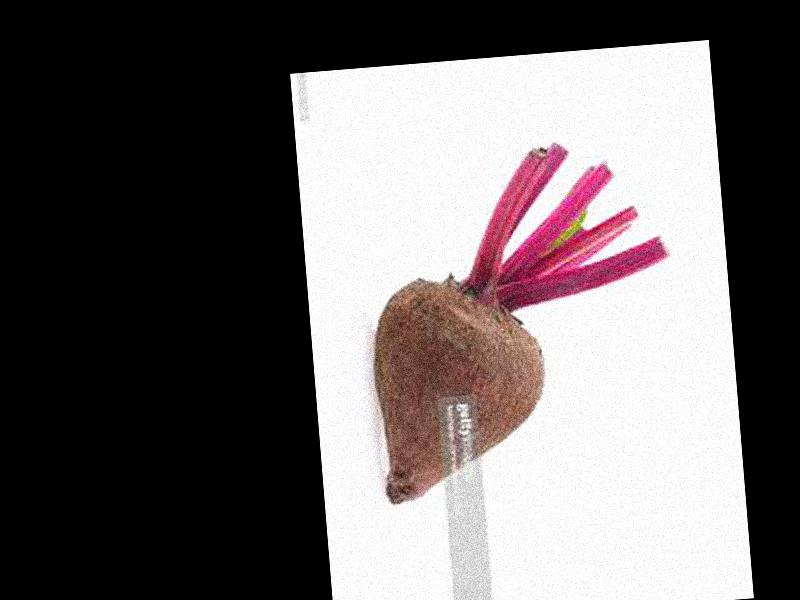Beet: (358, 134, 686, 505)
